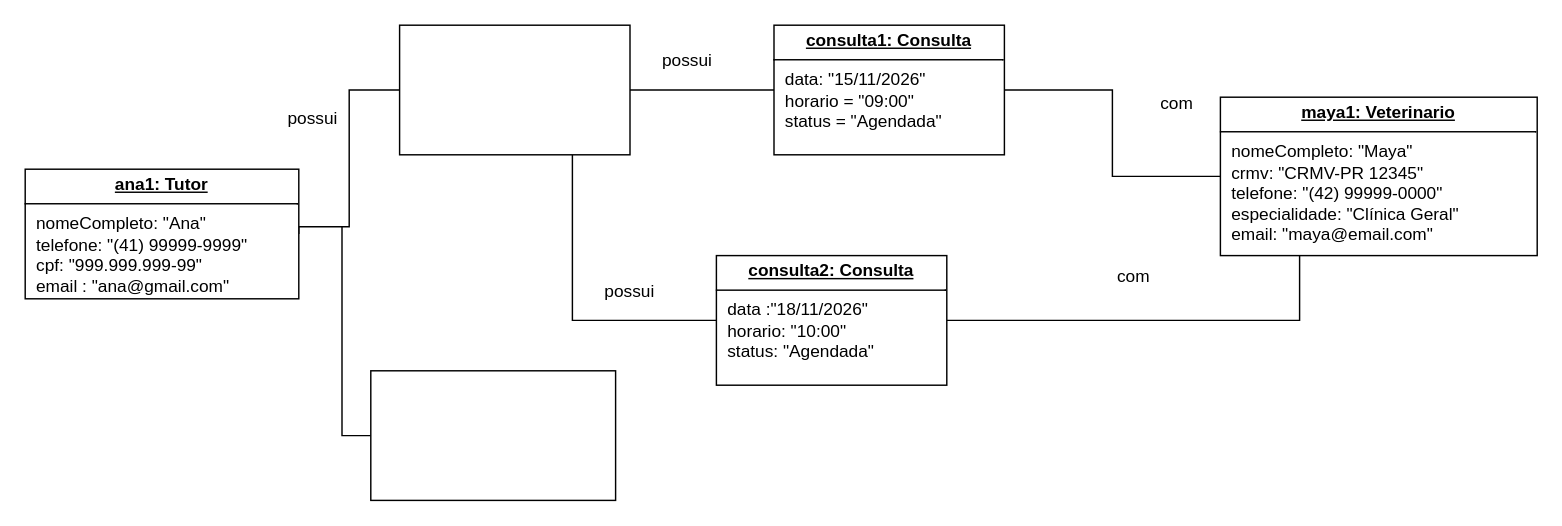
The diagram is 1562 pixels wide and 526 high, and some of its shapes have lost their labels. The centre of each missing label's shape, as x and y in pixels:
dart1: Animal nome: "Dart" especie: "Roedor" raca: "Gerbil": point 514,89
luna1: Animal nome: "Luna" especie: "Gato" raca: "Persa": point 492,434
